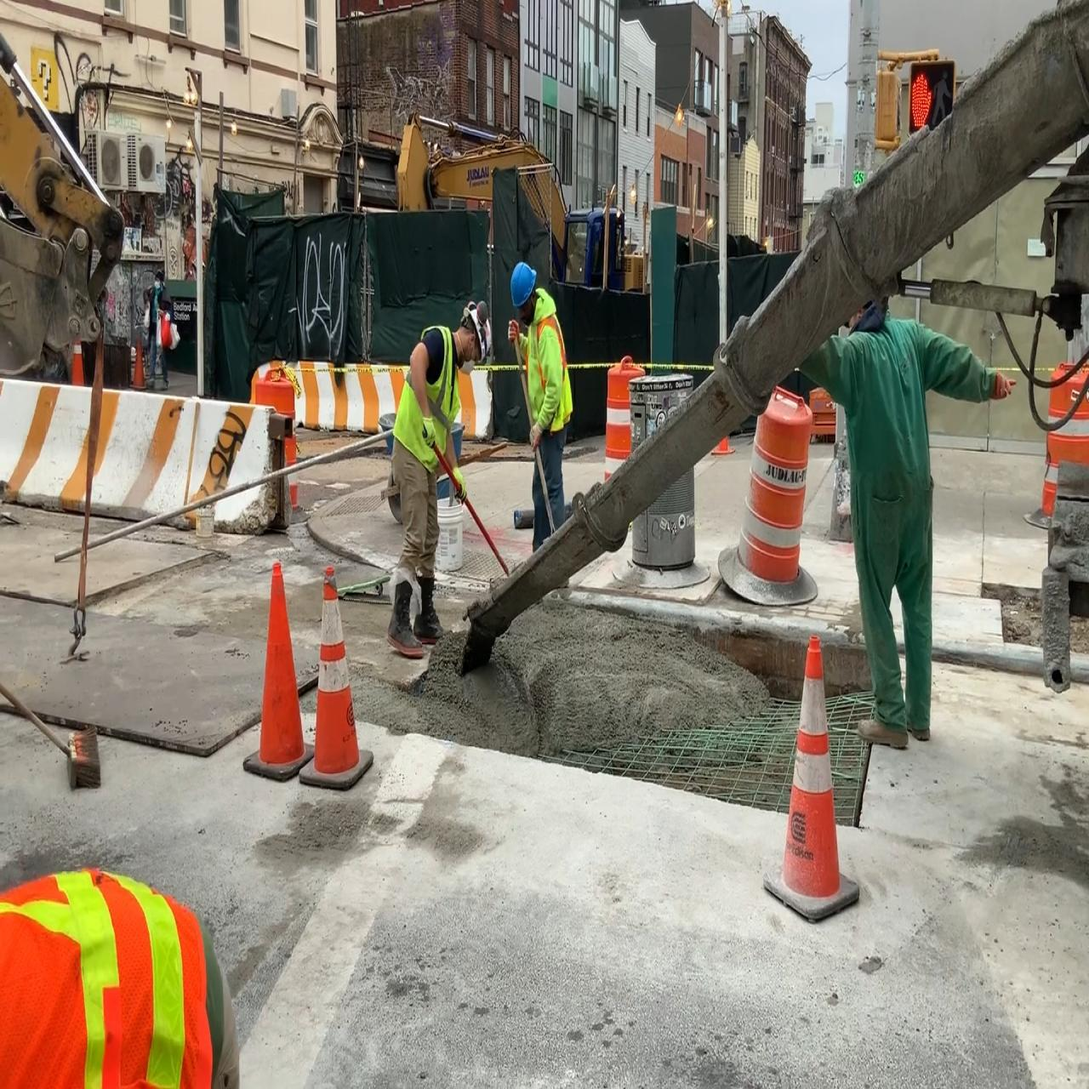NO_Safety_Vest: (843, 331, 933, 543), (149, 288, 167, 335)
Person: (795, 275, 1017, 751), (387, 302, 492, 661), (508, 261, 573, 591), (140, 268, 178, 393)
Safety_Vest: (0, 855, 220, 1088), (392, 315, 462, 486), (524, 314, 575, 435)
